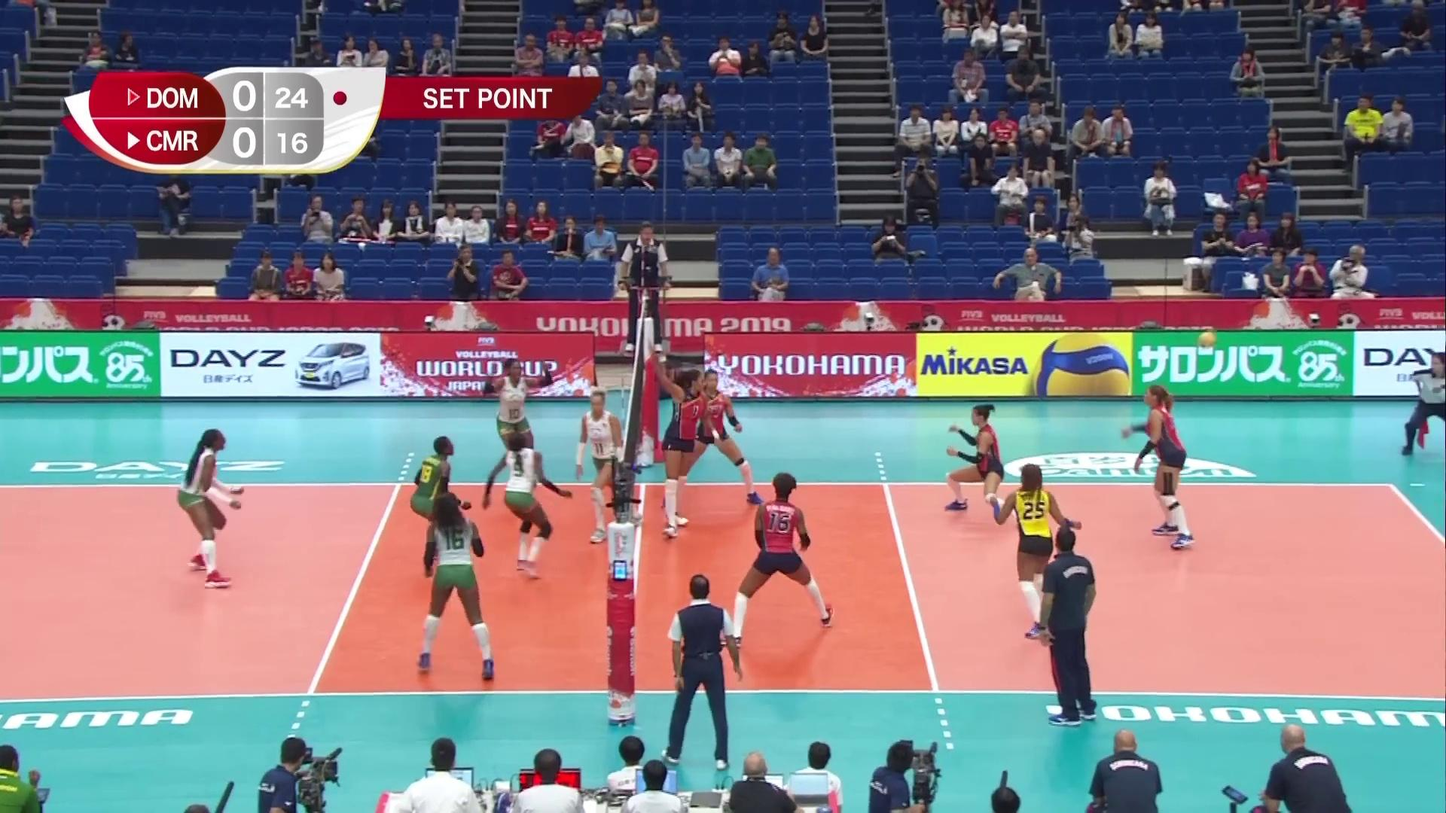player: (723, 475, 838, 638), (988, 463, 1078, 644), (420, 493, 495, 682), (664, 371, 765, 507), (1120, 383, 1193, 549), (490, 433, 567, 583), (648, 371, 712, 544), (175, 428, 244, 585), (410, 437, 473, 583), (488, 360, 555, 489), (576, 389, 627, 546), (946, 406, 1010, 516)
refree: (667, 579, 739, 769), (618, 224, 669, 354), (1401, 353, 1446, 458)
